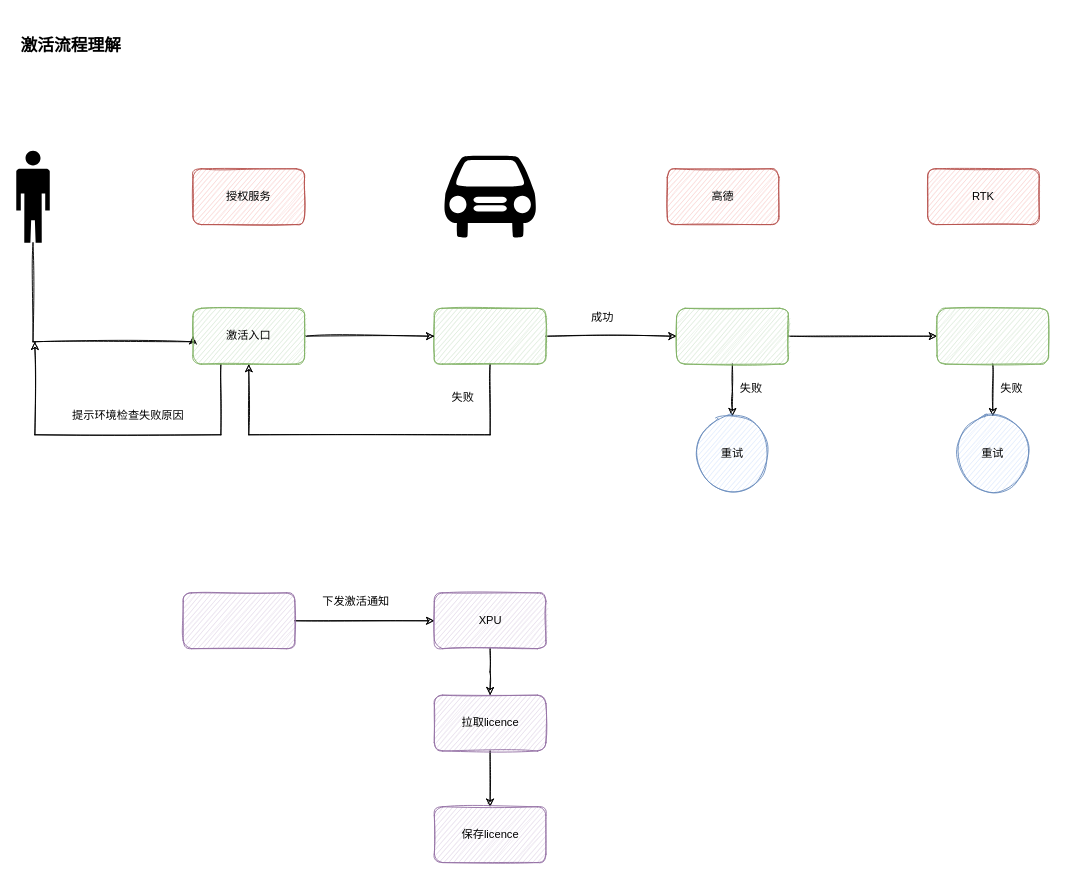
This 1065x879 diagram has some shape labels left out. Each missing label, with the centre of its shape:
"1.环境检查" belongs at [489,335].
"2.服务下单" belongs at [732,335].
"3.服务下单" belongs at [992,335].
"RTK激活成功" belongs at [238,620].
